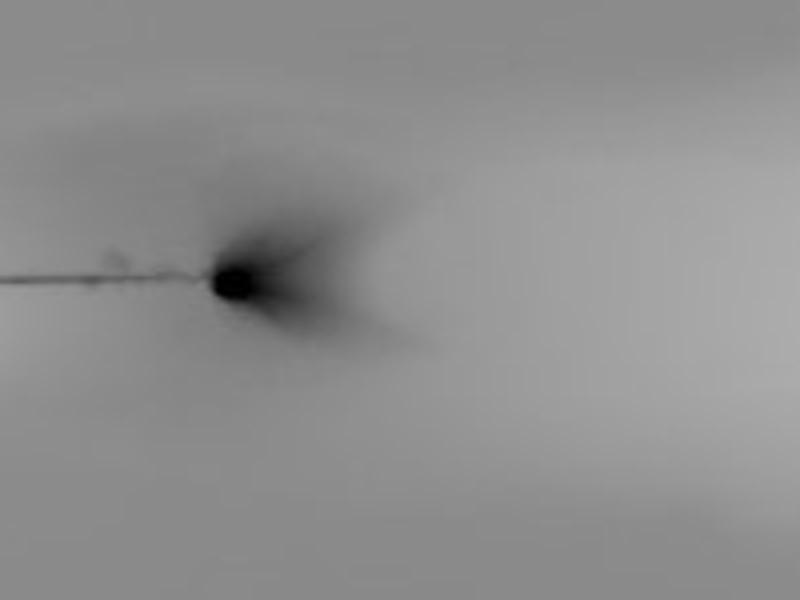defect: (210, 262, 259, 298)
